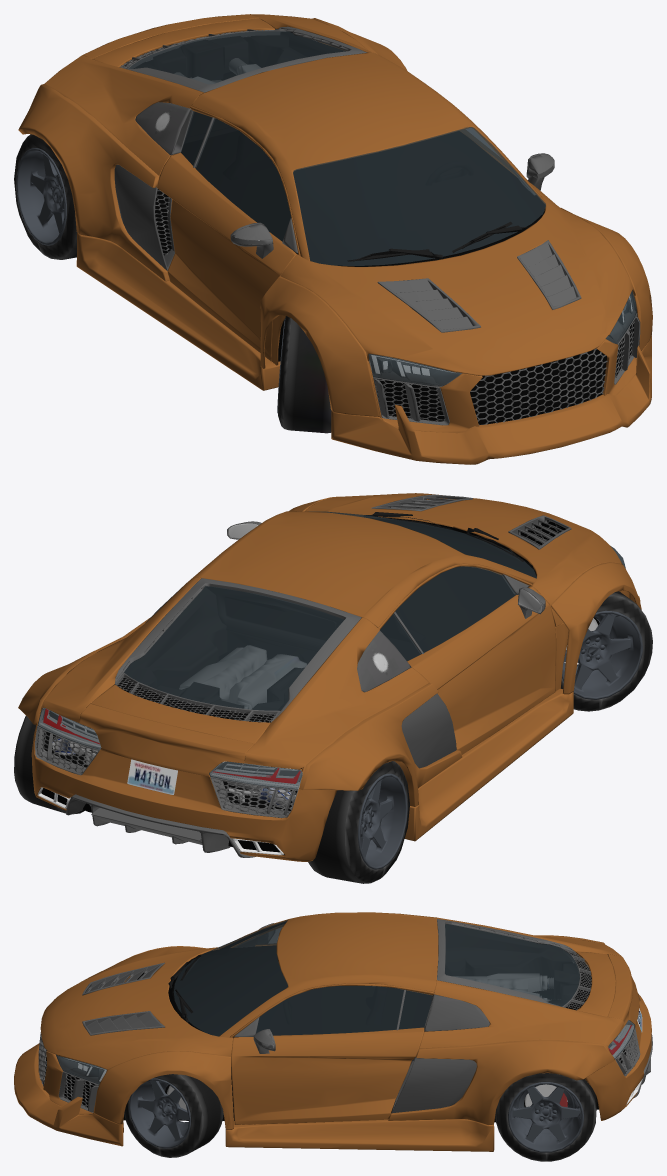
The model's file is audi-r8-distance.glb.
3 views of the same model, one above another, from view 1: azimuth 30°, elevation 25°; view 2: azimuth 150°, elevation 25°; view 3: azimuth 270°, elevation 25° (orthographic). The views are drawn at different scales.
Parts seen in each view (by area): view 1: body, wheel_rear_right, wheel_front_right; view 2: body, wheel_rear_right, wheel_front_right, wheel_rear_left; view 3: body, wheel_rear_left, wheel_front_left.
Boxes of the visible parts, <box> form: body: <box>18,14,652,464</box>; wheel_rear_right: <box>14,134,77,259</box>; wheel_front_right: <box>277,316,331,433</box>; body: <box>18,493,641,861</box>; wheel_rear_right: <box>308,761,409,883</box>; wheel_front_right: <box>560,591,652,711</box>; wheel_rear_left: <box>14,716,84,814</box>; body: <box>14,912,652,1151</box>; wheel_rear_left: <box>495,1073,596,1161</box>; wheel_front_left: <box>124,1074,223,1157</box>.
Bounding box in the file's own units: 2.31 × 1.24 × 4.43.
8 materials, 2 textured.
